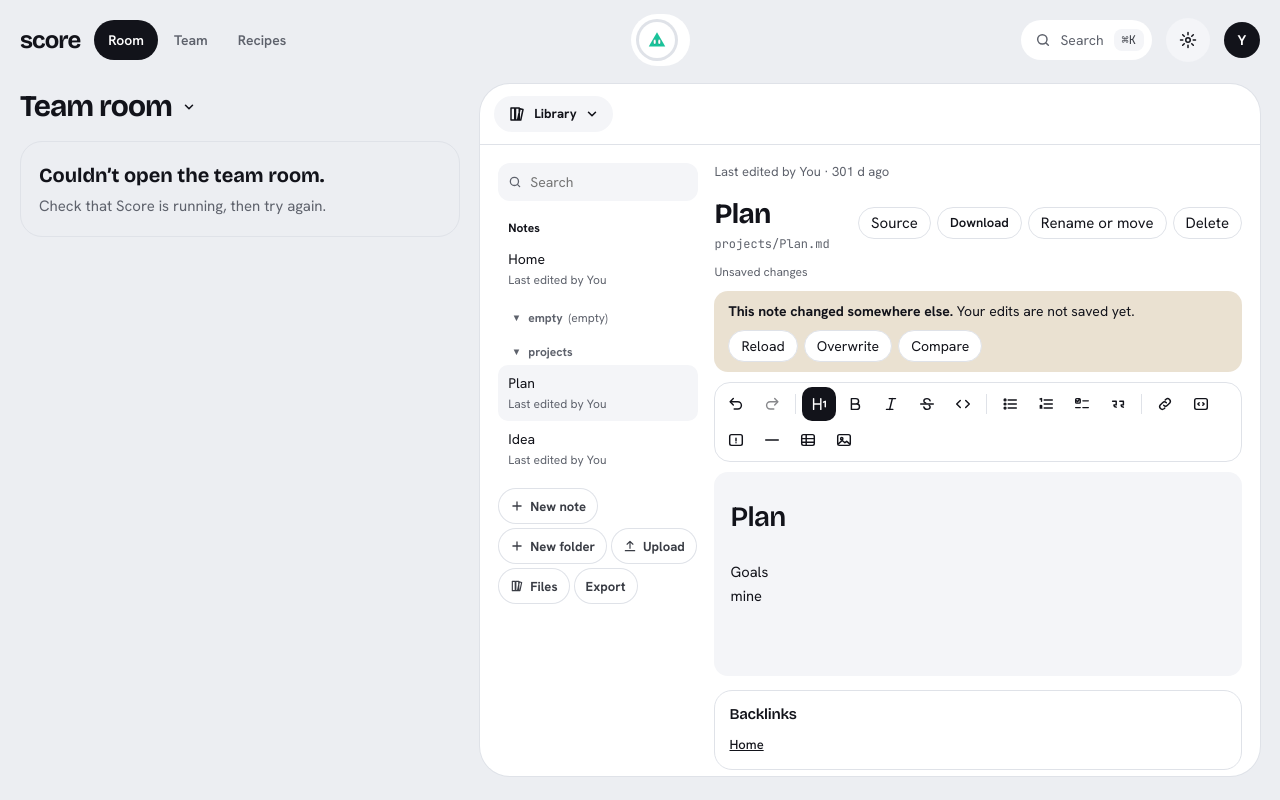
Test: a 412 shows the conflict banner: Compare diffs, Overwrite re-sends with the current etag
This screenshot has width=1280, height=800.
Expected: the field named "Contents of projects/Plan.md" is shown, [730,500,786,605]
Expected: the text "This note changed somewhere else." is shown, [728,302,953,320]
Click the button "Compare" at {"x": 940, "y": 346}, box [898,330,982,362]
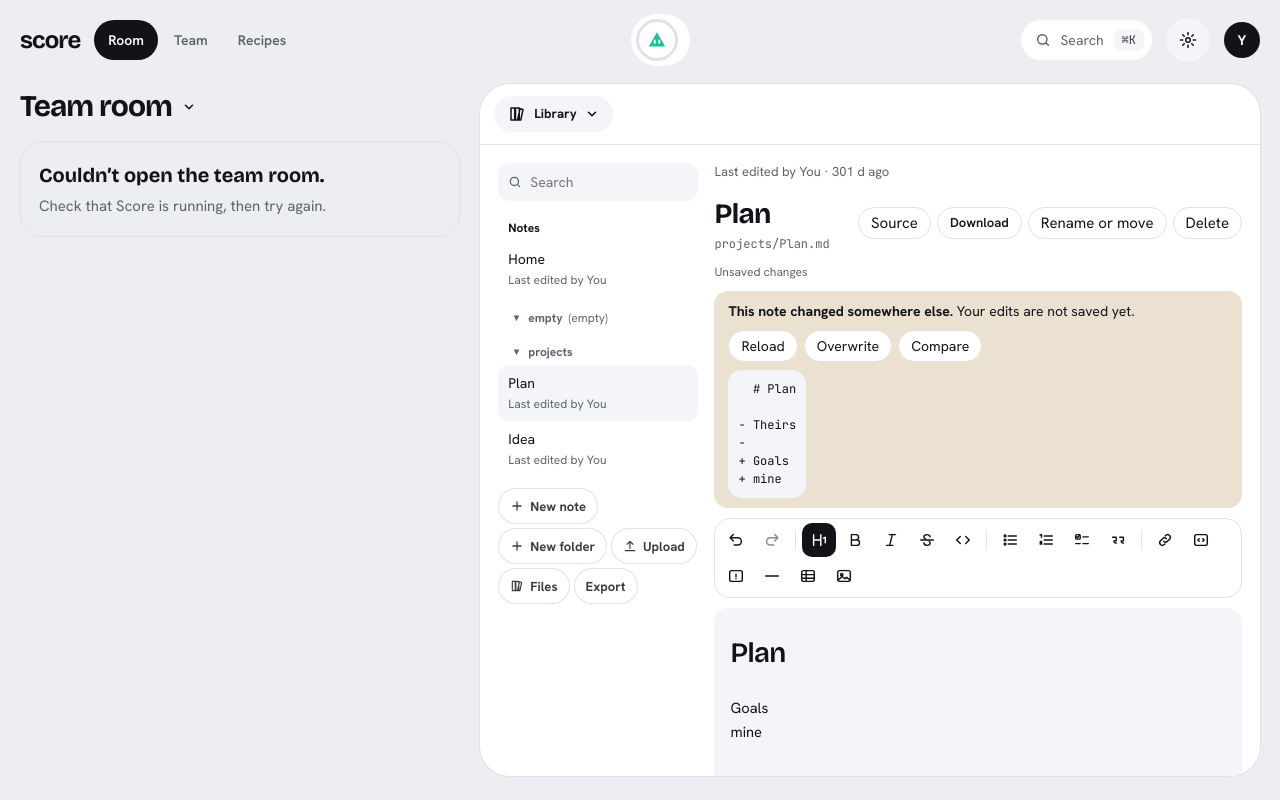
Expected: the element named "Differences" shows "Theirs", [753,417,796,433]
Expected: the element named "Differences" shows "mine", [753,471,782,487]
Click the button "Overwrite" at {"x": 848, "y": 346}, box [804,330,892,362]
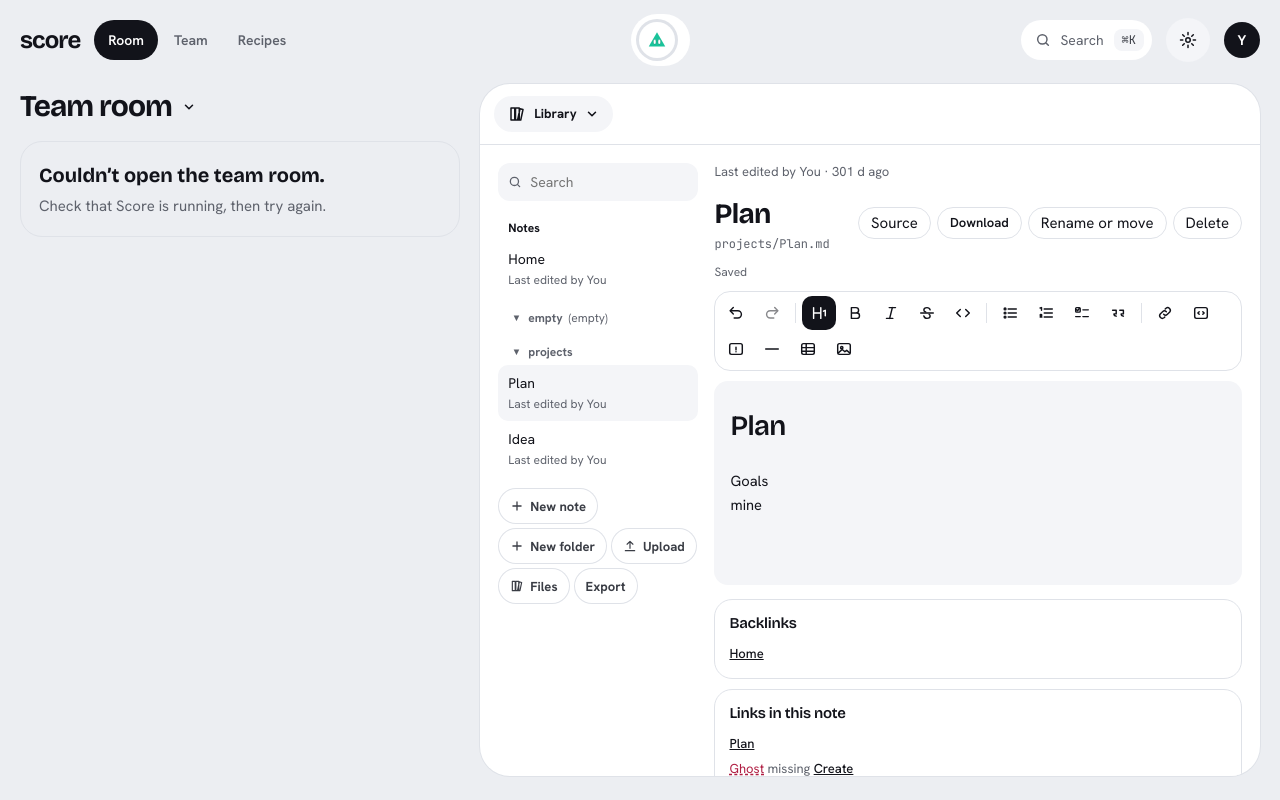
Expected: the message with test id "conflict" is gone
